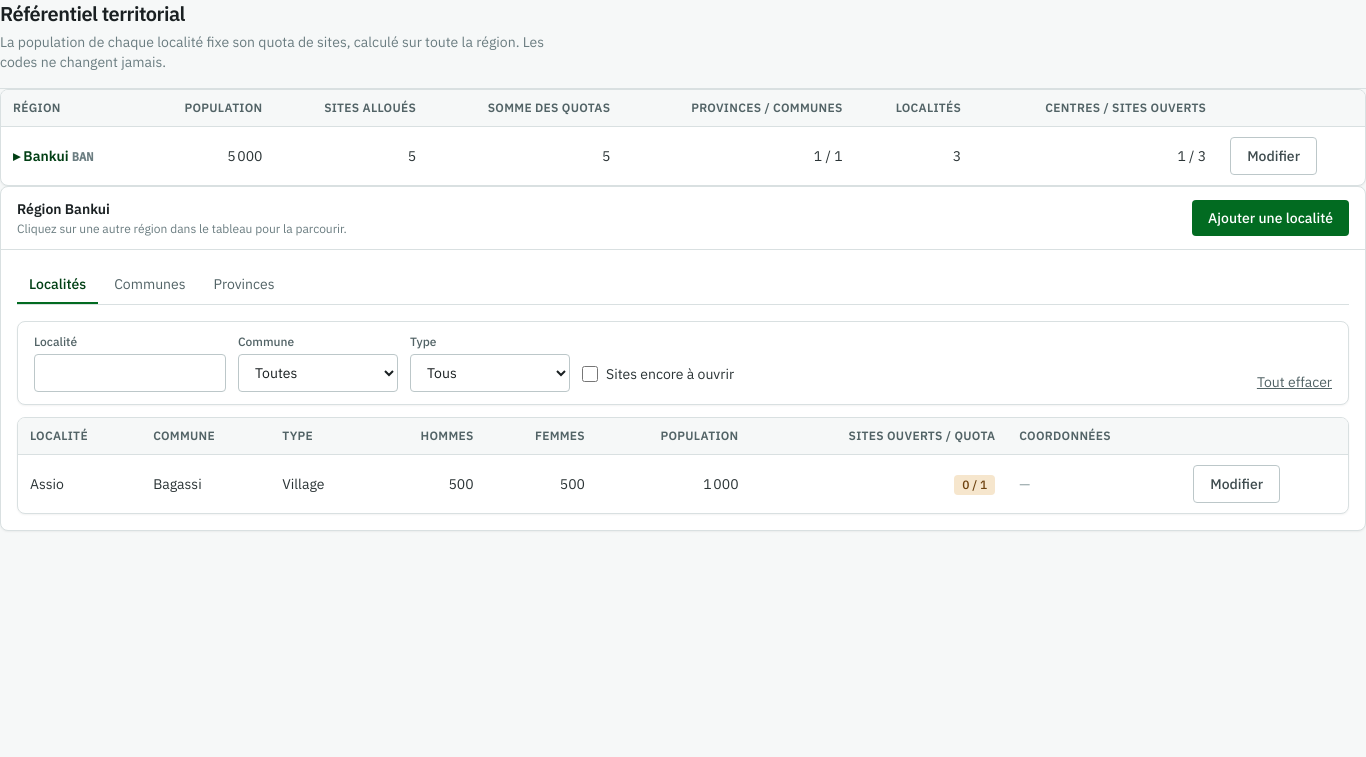
Référentiel territorial › exige un aperçu à jour avant d’enregistrer une population
Click the button "Modifier" in the row of "Assio". click: (1237, 484)
box: [1193,465,1280,503]
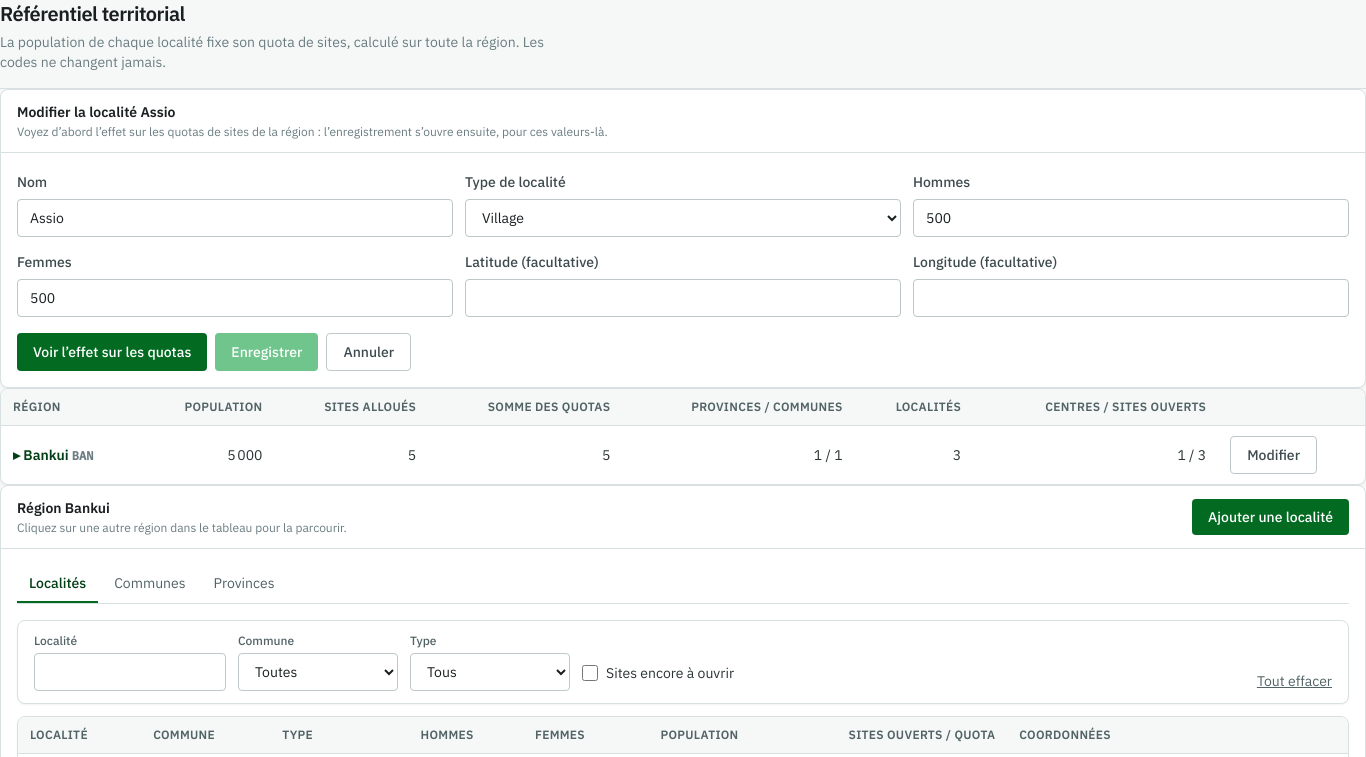
Result: the button "Enregistrer" is disabled at [215,333,318,371]
Replace the text in the number field labelled "Hommes" with "1500". click: (1131, 218)
box: [913,199,1349,237]
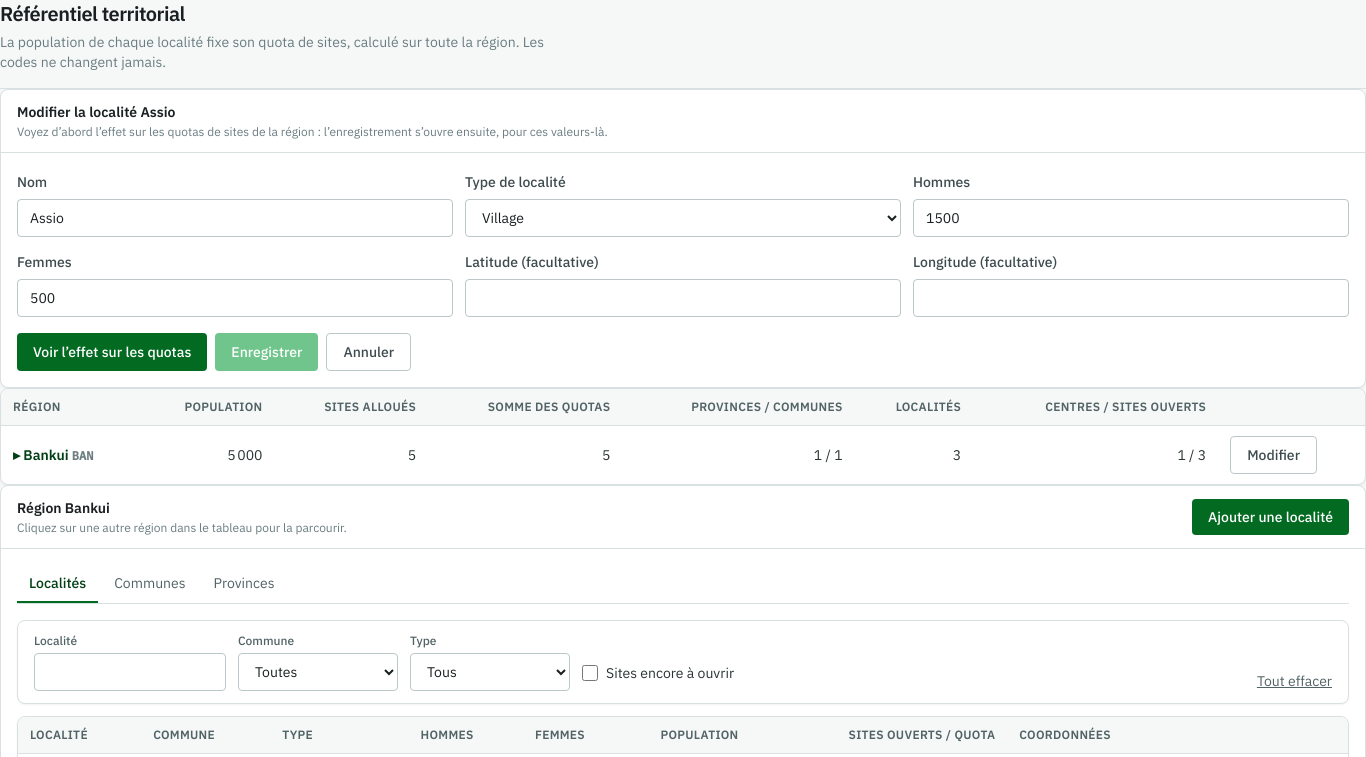
Click the button "Voir l’effet sur les quotas". click: (112, 352)
box: [17,333,207,371]
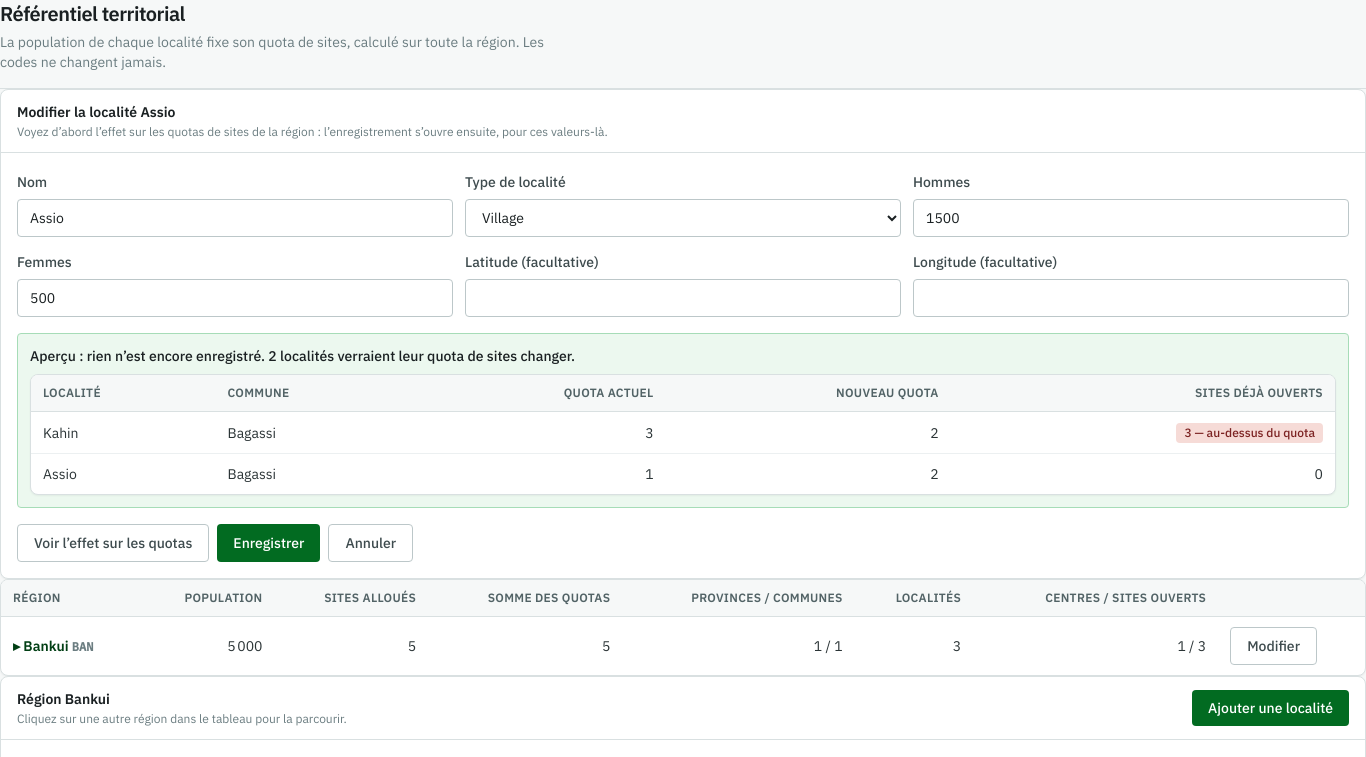
Result: the text "2 localités verraient" is shown at [30,347,575,365]
Result: the text "3 — au-dessus du quota" is shown at [1176,423,1323,443]
Result: the button "Enregistrer" is enabled at [217,524,320,562]
// Une valeur change : l'aperçu ne vaut plus.
Replace the text in the number field labelled "Femmes" with "600". click: (235, 298)
box: [17,279,453,317]
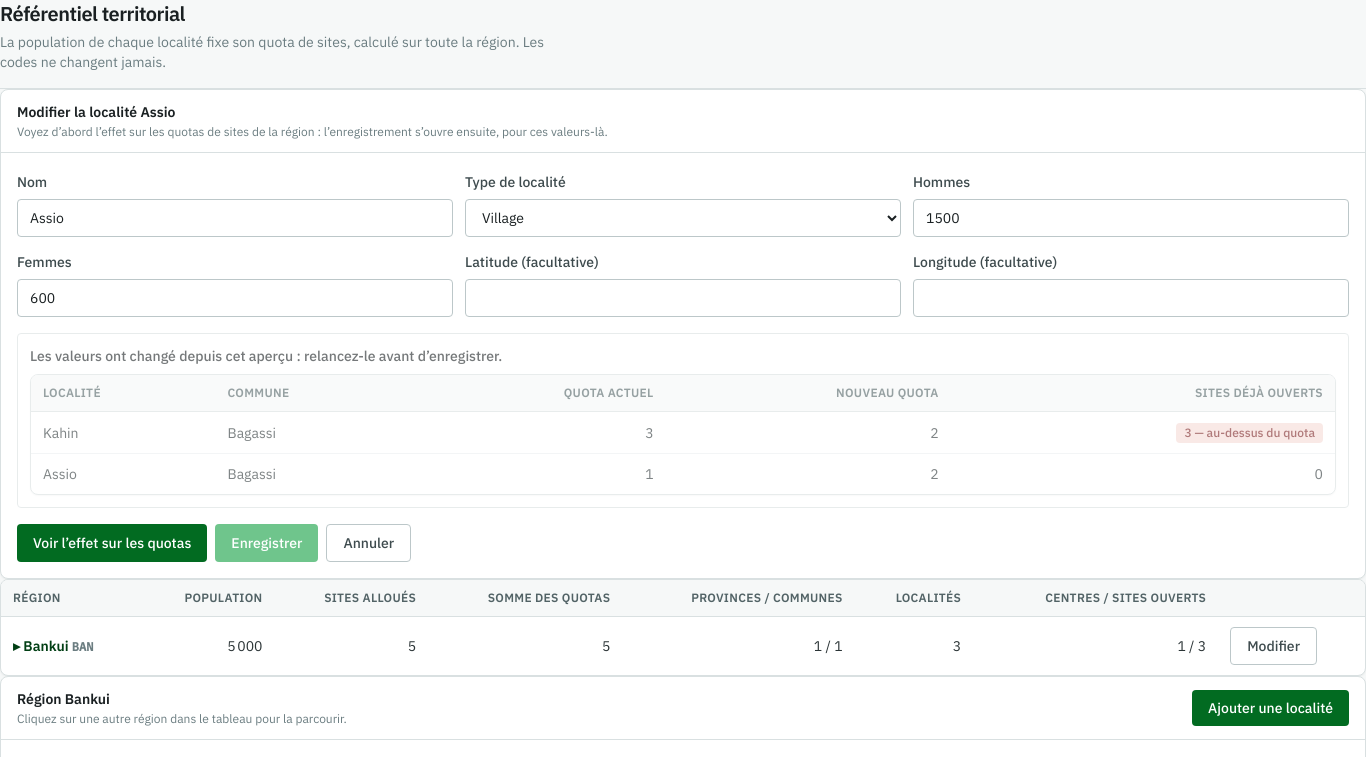
Result: the button "Enregistrer" is disabled at [215,524,318,562]
Result: the text "Les valeurs ont changé depuis cet aperçu : relancez-le avant d’enregistrer." is shown at [30,347,502,365]
Click the button "Voir l’effet sur les quotas". click: (112, 543)
box: [17,524,207,562]
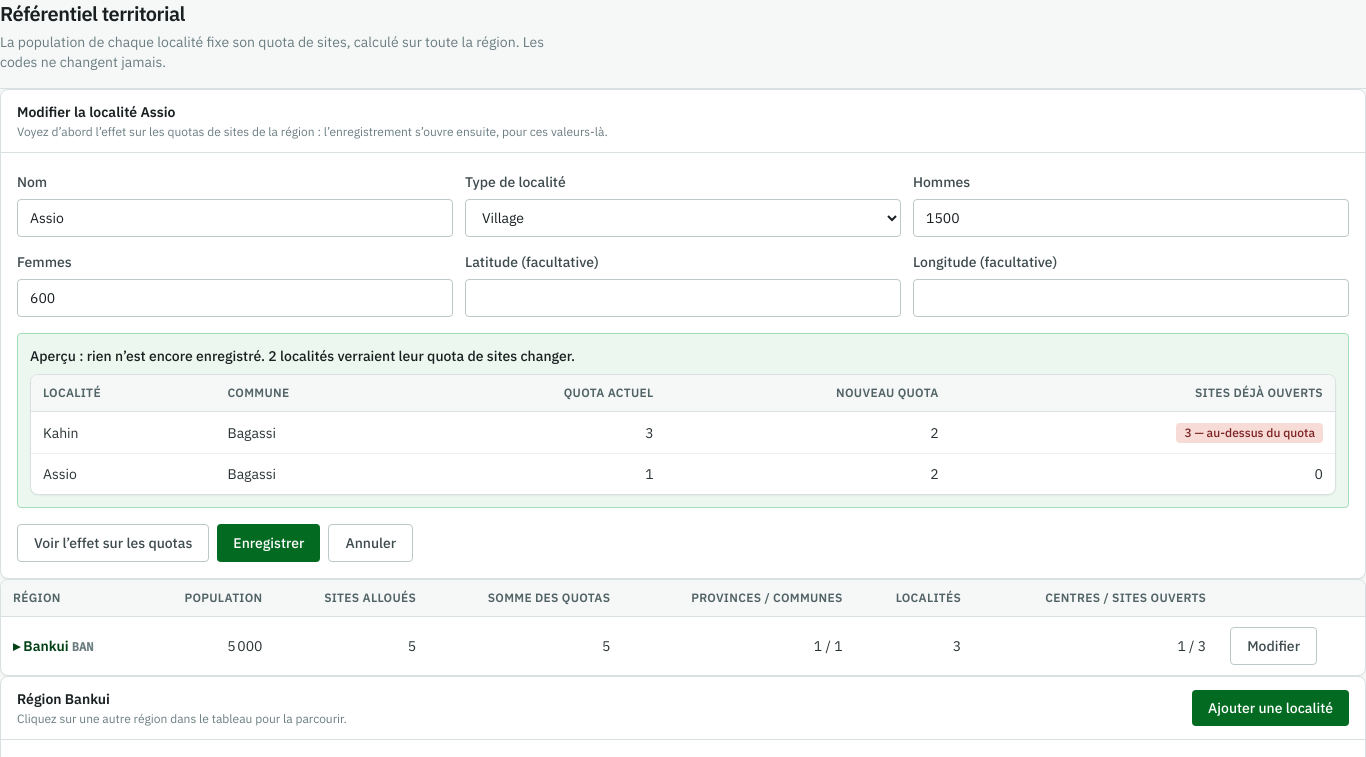
Result: the button "Enregistrer" is enabled
Click the button "Enregistrer". click: (269, 543)
box: [217,524,320,562]
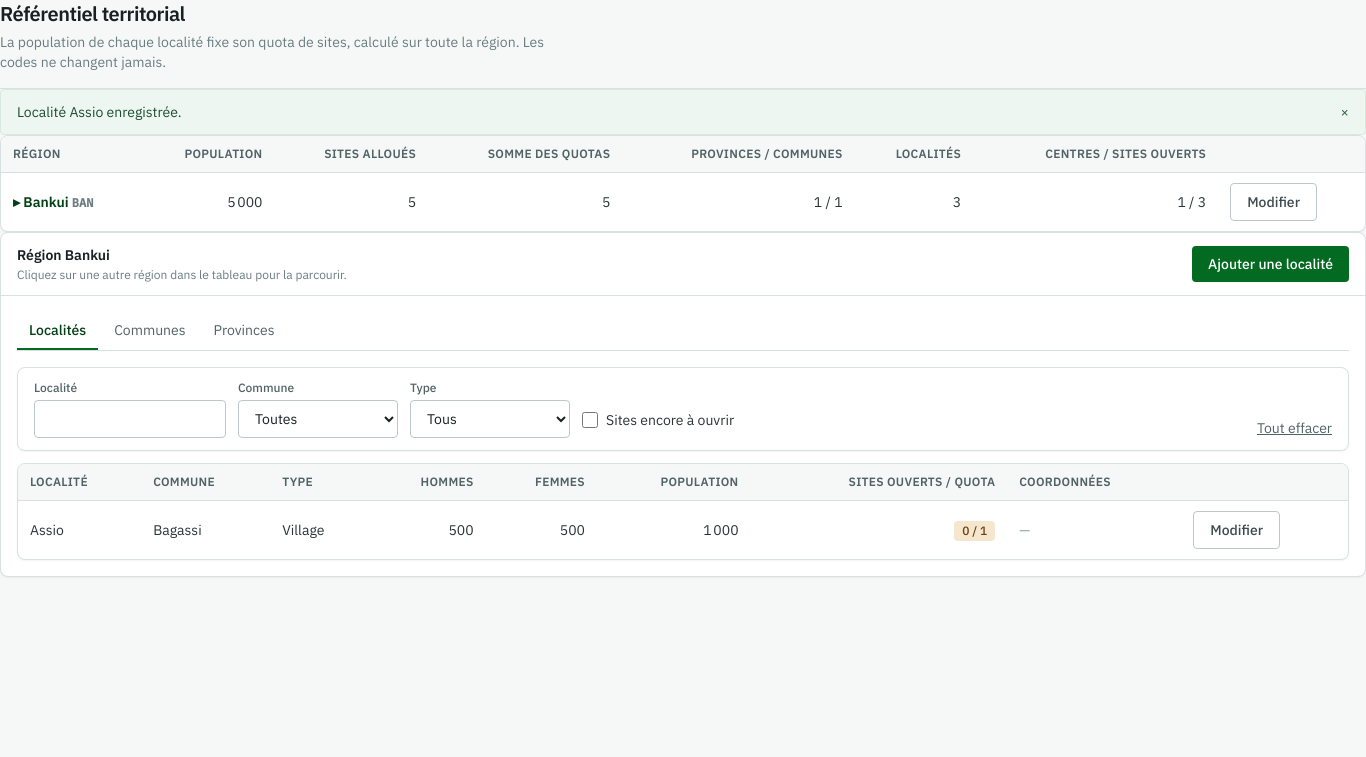
Result: the text "Localité Assio enregistrée." is shown at [17,102,182,122]
